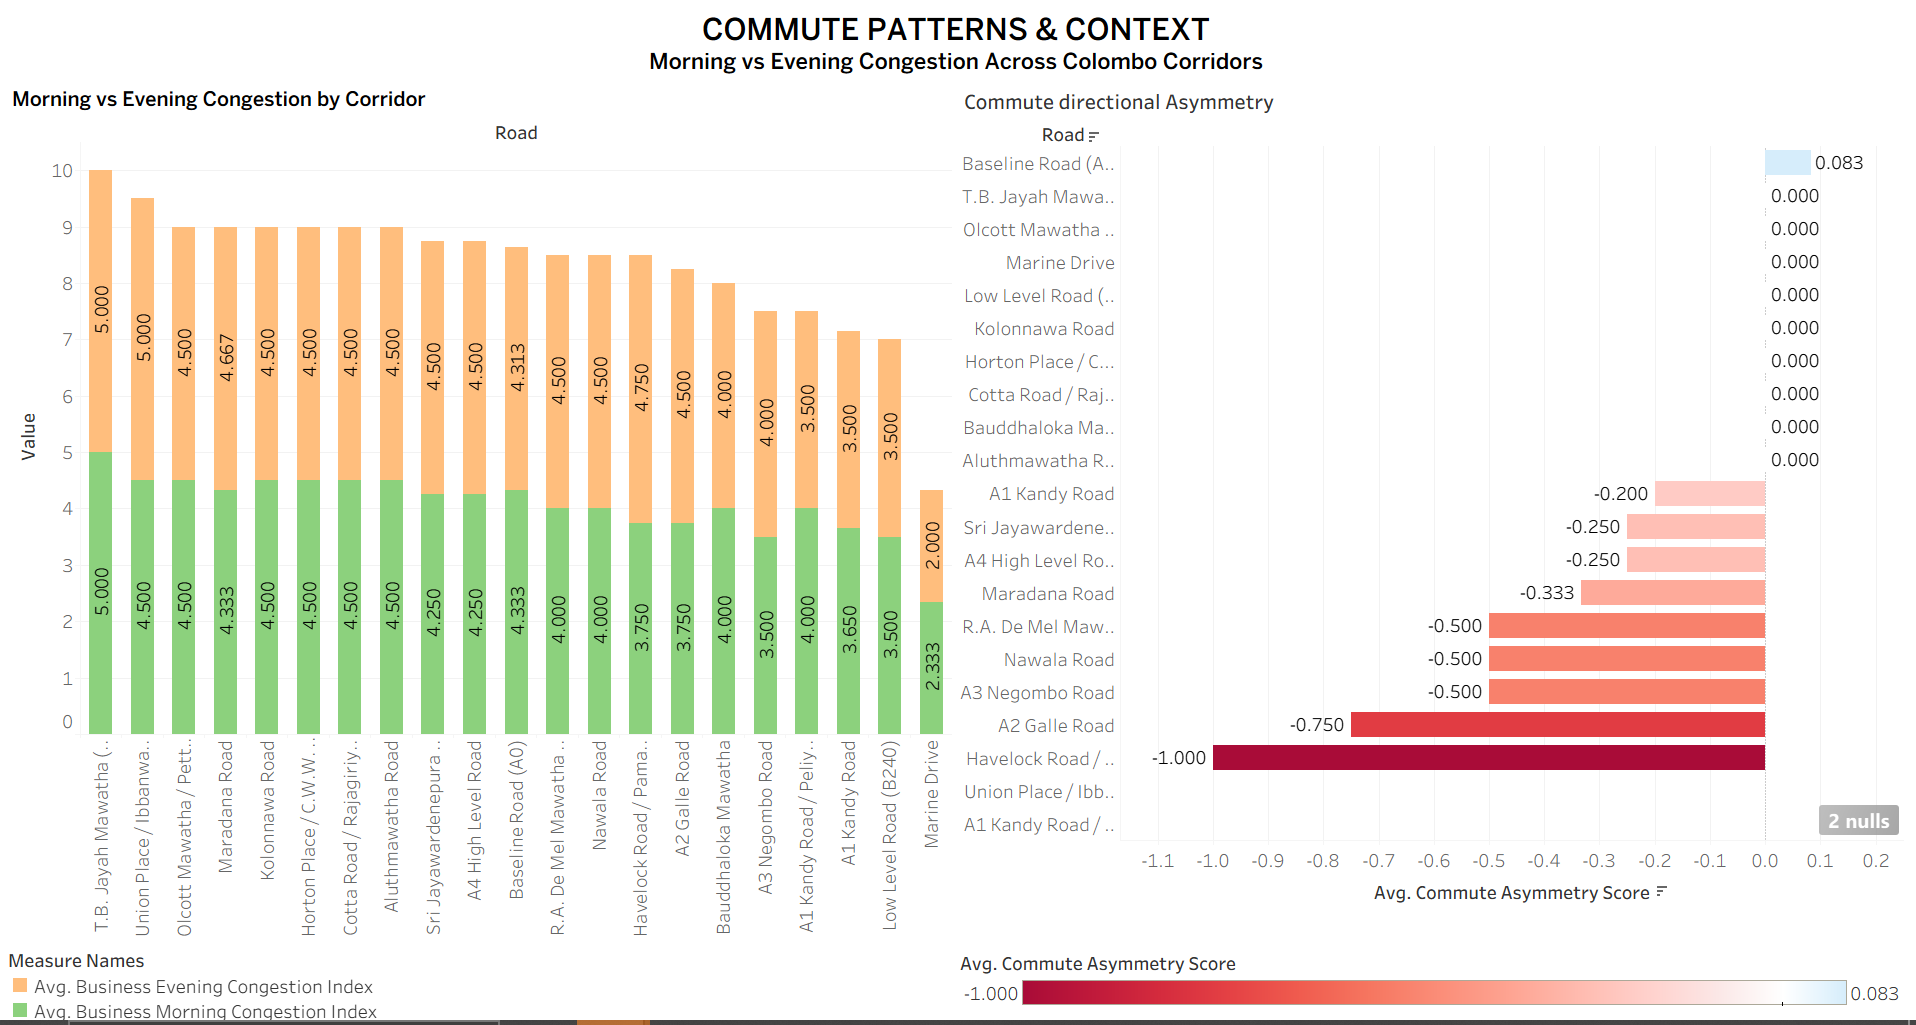

This screenshot's page, from the dashboard's own definition file:
{"tool":"tableau","page":{"name":"Commute Patterns & Context","canvas":[1000,1000],"units":"permille","ordinal":1},"visuals":[{"type":"title","box":[5,9.8,990,86.8]},{"type":"worksheet","title":"Morning vs Evening Congestion","mark":"Bar","rows":["road"],"box":[5,96.6,495,790.8]},{"type":"worksheet","title":"Commute Directional Asymmetry","mark":"Bar","rows":["road"],"cols":["commute_asymmetry_score"],"box":[500,96.6,495,794.4]},{"type":"legend","title":"Morning vs Evening Congestion","param":"[federated.18cqfrt1nrlqz911s9eqb0a6ipzj].[:Measure Names]","box":[5,887.4,495,102.7]},{"type":"legend","title":"Commute Directional Asymmetry","param":"[federated.18cqfrt1nrlqz911s9eqb0a6ipzj].[avg:commute_asymmetry_score:qk]","box":[500,891,495,99]}]}

Visuals, with their boxes on the dashboard's canvas, which has no fixed pixel size, in thousandths of its width and height (x1, y1, x2, y2). These are canvas units, not pixel positions in the 1916x1025 screenshot, which may show the page scaled, cropped or inside an application window:
title: bbox=(5, 10, 995, 97)
"Morning vs Evening Congestion" worksheet (Bar marks): bbox=(5, 97, 500, 887)
"Commute Directional Asymmetry" worksheet (Bar marks): bbox=(500, 97, 995, 891)
"Morning vs Evening Congestion" legend: bbox=(5, 887, 500, 990)
"Commute Directional Asymmetry" legend: bbox=(500, 891, 995, 990)
